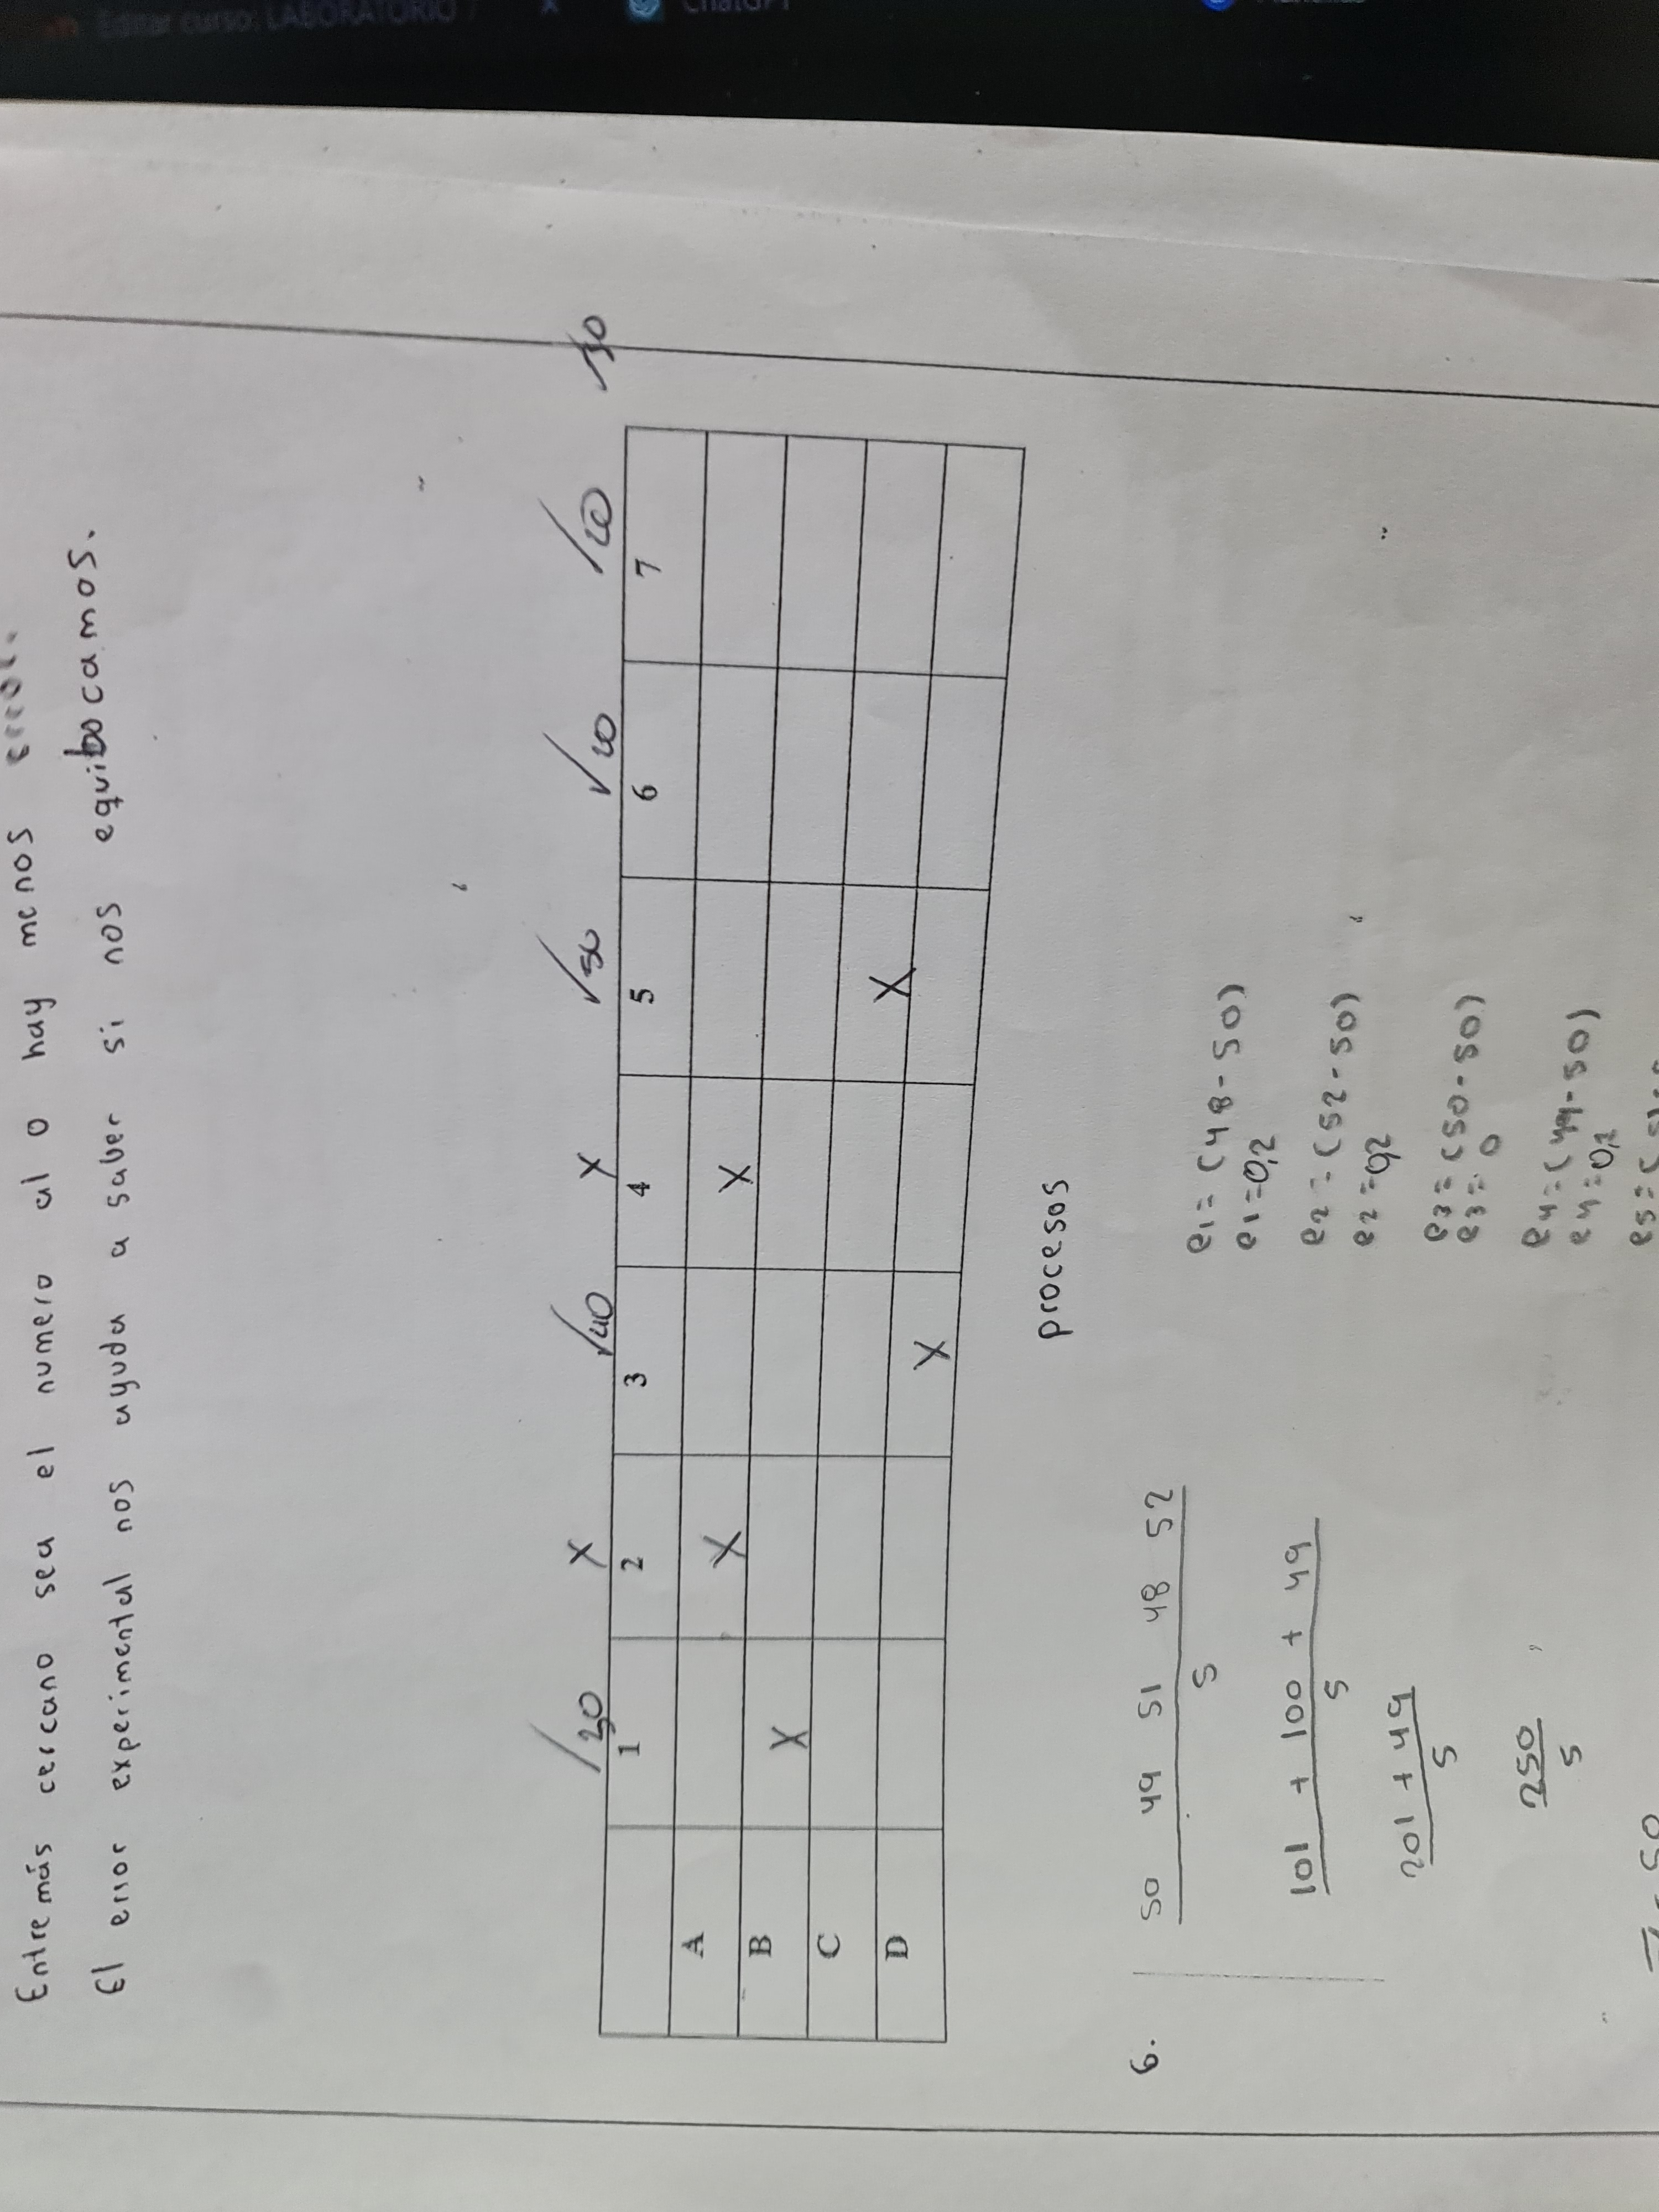column: (599, 866, 1007, 1082), (592, 1825, 962, 2048), (598, 1258, 965, 1468), (594, 1440, 960, 1646), (605, 1078, 985, 1275), (586, 1634, 960, 1831)
